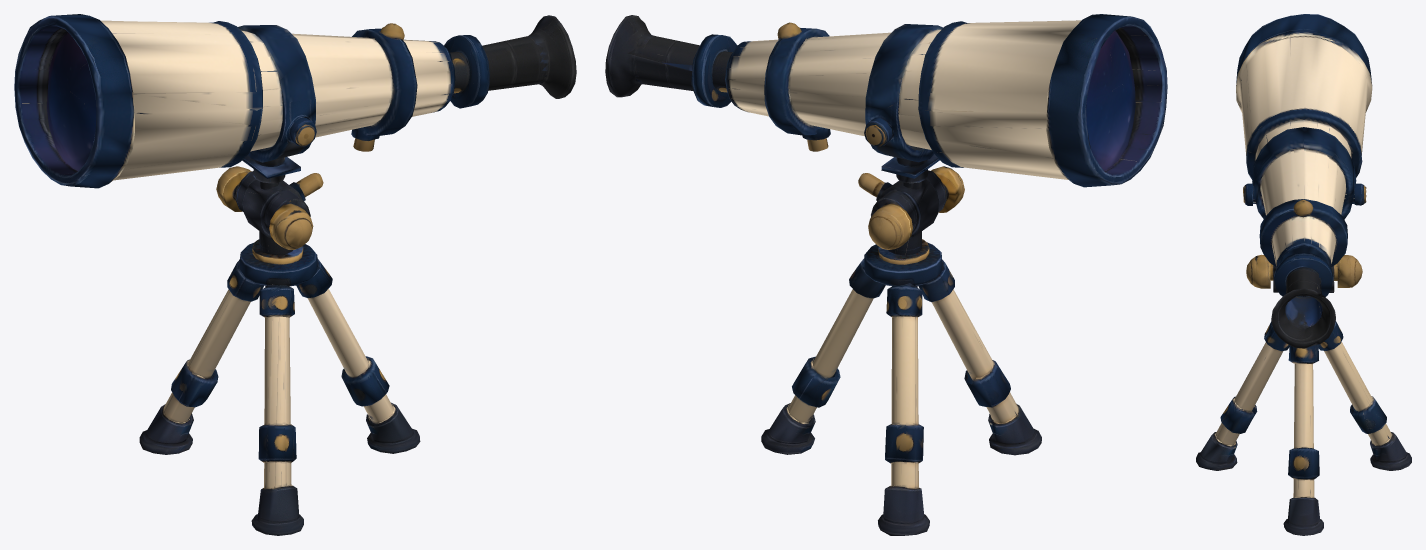
Rendered from stargazer-telescope.glb.
The picture shows the model from 3 angles, left to right: view 1: azimuth 30°, elevation 25°; view 2: azimuth 150°, elevation 25°; view 3: azimuth 270°, elevation 25°; orthographic projection. The views are drawn at different scales.
Parts seen in each view (by area): view 1: Mesh_0; view 2: Mesh_0; view 3: Mesh_0.
Part boxes in pixels (x1,y1,x2,y2): Mesh_0: (14,14,576,535); Mesh_0: (605,14,1167,535); Mesh_0: (1196,14,1411,535).
Size of the model in its own units: 1.05 by 1 by 0.501.
Materials: 1 (1 with a texture image).
